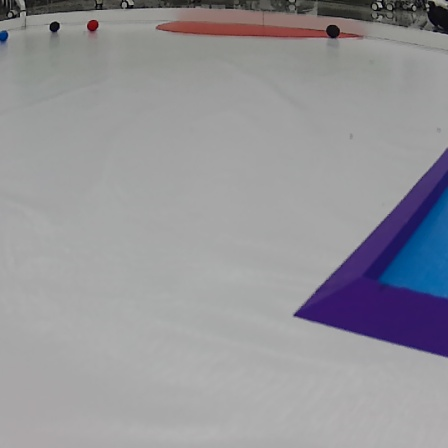black: (323, 23, 342, 39), (46, 21, 61, 34)
blue: (0, 29, 12, 46)
blue_aim: (291, 142, 448, 361)
red: (84, 18, 101, 32)
